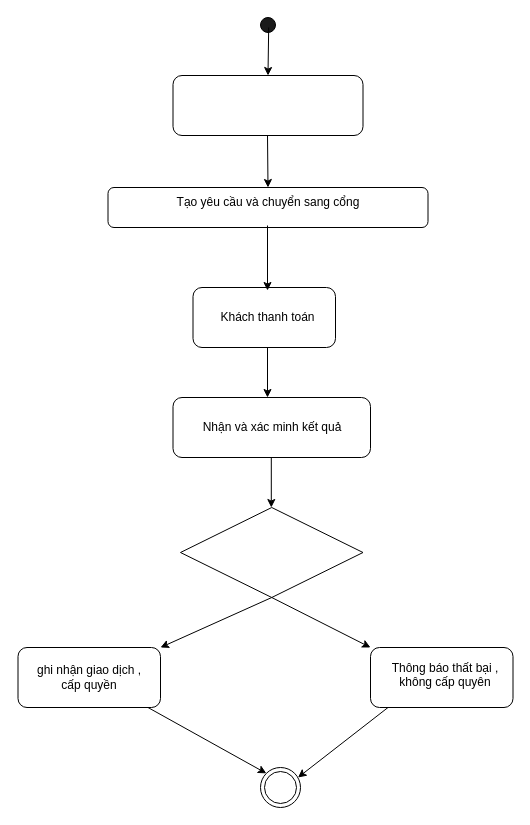
This 530x825 diagram has some shape labels left out. Each missing label, with the centre of its shape:
"Chọn thanh toán trực tuyến" belongs at point 267,105.
"Thanh toán thành công ?" belongs at point 271,552.
